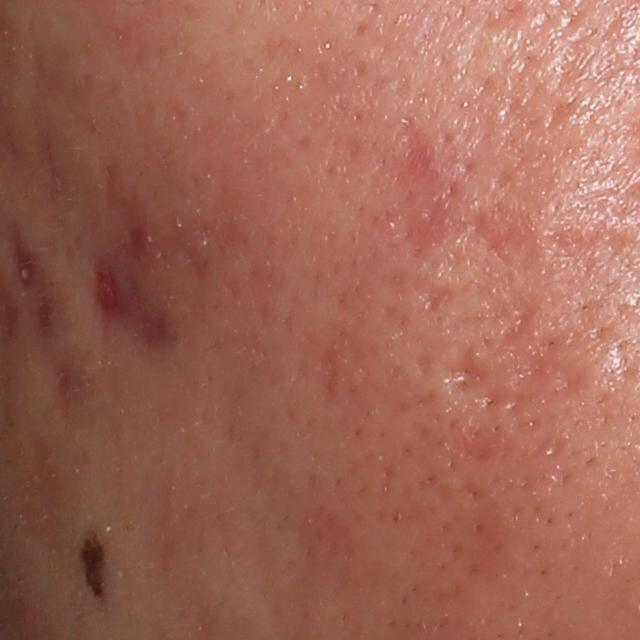atrophic_scar: (493, 300, 584, 410), (90, 259, 131, 330), (446, 338, 498, 393), (407, 275, 456, 325), (13, 238, 40, 288)
nevus: (79, 514, 116, 614)
